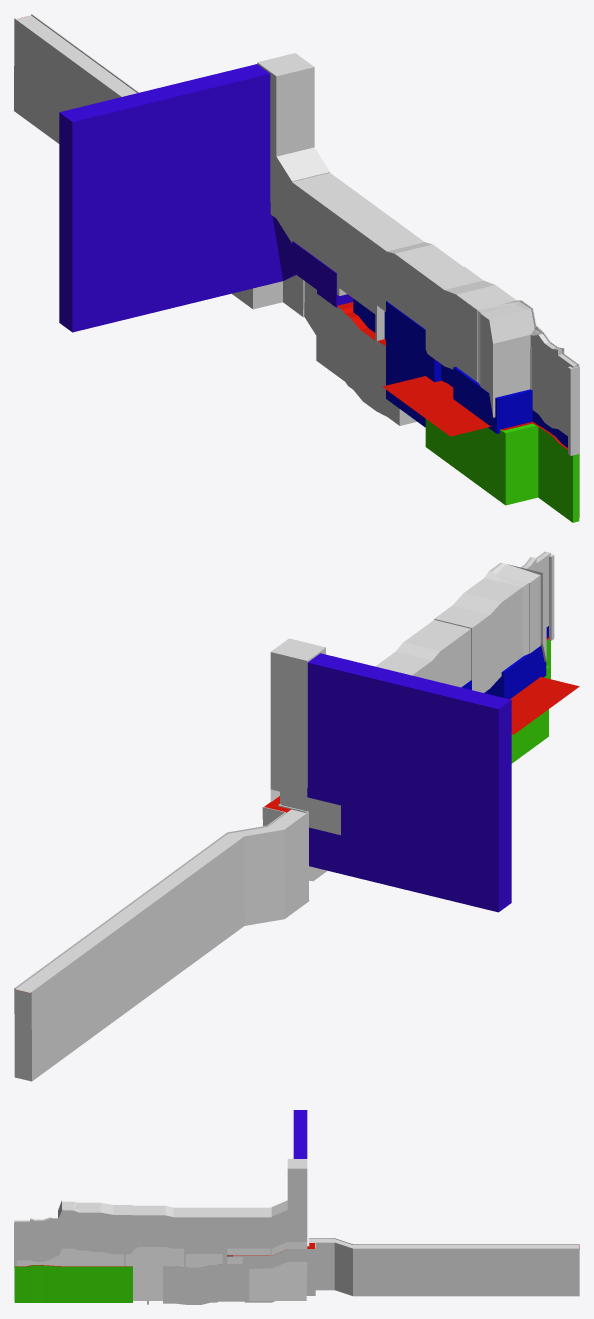
File: Map.gltf
3 views of the same model, one above another, from view 1: azimuth 30°, elevation 25°; view 2: azimuth 150°, elevation 25°; view 3: azimuth 270°, elevation 25° (orthographic). The views are drawn at different scales.
Parts seen in each view (by area): view 1: 立方体.002, 屋根, 立方体.001, 床, 拝啓, 床.001, COL_Floor; view 2: 立方体.002, 立方体.001, 屋根, COL_Floor, 拝啓, COL_Wall, 床; view 3: 立方体.001, 屋根, COL_Front, 床, 床.001, 立方体.002.
Part boxes in pixels (x1,y1,x2,y2): 立方体.002: [59, 64, 353, 332]; 屋根: [257, 53, 579, 455]; 立方体.001: [14, 14, 316, 334]; 床: [425, 419, 579, 522]; 拝啓: [353, 298, 567, 447]; 床.001: [316, 291, 416, 425]; COL_Floor: [21, 16, 567, 449]; 立方体.002: [307, 653, 511, 912]; 立方体.001: [14, 804, 327, 1081]; 屋根: [270, 551, 554, 797]; COL_Floor: [15, 637, 579, 993]; 拝啓: [461, 626, 548, 699]; COL_Wall: [280, 791, 340, 835]; 床: [511, 639, 550, 763]; 立方体.001: [227, 1238, 579, 1302]; 屋根: [14, 1159, 307, 1267]; COL_Front: [14, 1242, 307, 1300]; 床: [14, 1265, 132, 1302]; 床.001: [163, 1264, 249, 1304]; 立方体.002: [293, 1110, 307, 1158].
Size of the model in its own units: 136 by 147 by 542.
